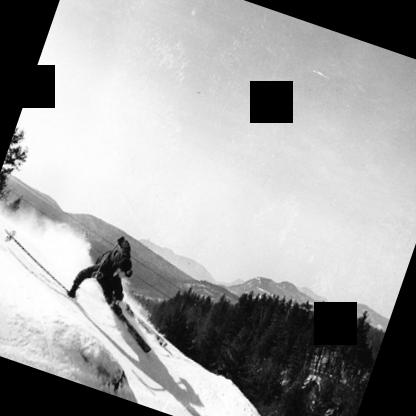backpack: (108, 239, 132, 262)
